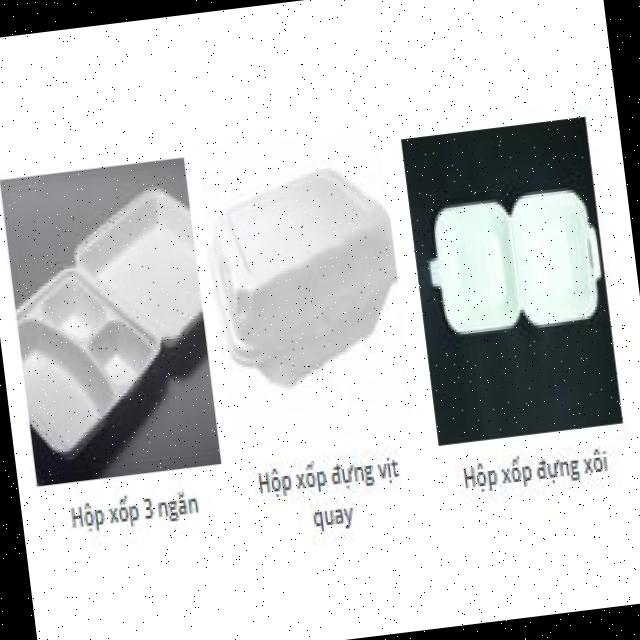styrofoam: (0, 180, 216, 464), (198, 156, 408, 392)
